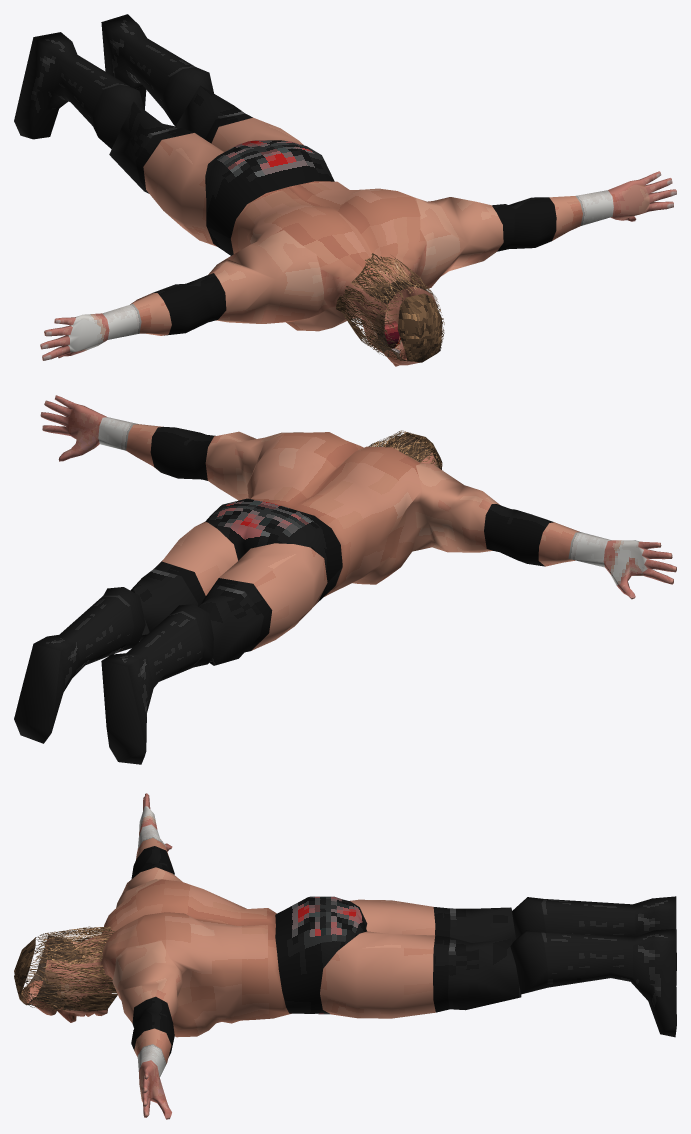
3 views of the same model, one above another, from view 1: azimuth 30°, elevation 25°; view 2: azimuth 150°, elevation 25°; view 3: azimuth 270°, elevation 25° (orthographic). The views are drawn at different scales.
Parts seen in each view (by area): view 1: native_mesh_22, native_mesh_48, native_mesh_26, native_mesh_24, native_mesh_49, native_mesh_45, native_mesh_00, native_mesh_32, native_mesh_46, native_mesh_31, native_mesh_21, native_mesh_44 (+7 smaller); view 2: native_mesh_45, native_mesh_48, native_mesh_49, native_mesh_32, native_mesh_26, native_mesh_24, native_mesh_44, native_mesh_22, native_mesh_31, native_mesh_42, native_mesh_00, native_mesh_50 (+4 smaller); view 3: native_mesh_45, native_mesh_44, native_mesh_32, native_mesh_48, native_mesh_46, native_mesh_22, native_mesh_31, native_mesh_49, native_mesh_00, native_mesh_24, native_mesh_01, native_mesh_21 (+2 smaller).
Boxes of the visible parts, left/top/right/bottom form: native_mesh_22: left=250, top=191, right=467, bottom=331; native_mesh_48: left=92, top=84, right=279, bottom=246; native_mesh_26: left=130, top=245, right=275, bottom=335; native_mesh_24: left=434, top=196, right=582, bottom=276; native_mesh_49: left=14, top=32, right=129, bottom=139; native_mesh_45: left=231, top=181, right=396, bottom=318; native_mesh_00: left=351, top=261, right=444, bottom=362; native_mesh_32: left=101, top=14, right=195, bottom=109; native_mesh_46: left=222, top=140, right=334, bottom=204; native_mesh_31: left=162, top=67, right=233, bottom=133; native_mesh_21: left=336, top=221, right=418, bottom=331; native_mesh_44: left=197, top=105, right=303, bottom=151; native_mesh_45: left=247, top=432, right=422, bottom=596; native_mesh_48: left=170, top=503, right=327, bottom=667; native_mesh_49: left=101, top=611, right=203, bottom=764; native_mesh_32: left=14, top=595, right=133, bottom=743; native_mesh_26: left=428, top=480, right=579, bottom=566; native_mesh_24: left=126, top=424, right=263, bottom=500; native_mesh_44: left=134, top=521, right=236, bottom=634; native_mesh_22: left=250, top=432, right=463, bottom=576; native_mesh_31: left=59, top=454, right=197, bottom=651; native_mesh_42: left=572, top=533, right=646, bottom=583; native_mesh_00: left=369, top=430, right=442, bottom=469; native_mesh_50: left=300, top=511, right=346, bottom=601; native_mesh_45: left=131, top=882, right=291, bottom=1037; native_mesh_44: left=320, top=931, right=472, bottom=1018; native_mesh_32: left=541, top=929, right=676, bottom=1037; native_mesh_48: left=307, top=896, right=546, bottom=942; native_mesh_46: left=275, top=897, right=359, bottom=1014; native_mesh_22: left=104, top=879, right=194, bottom=1036; native_mesh_31: left=164, top=930, right=547, bottom=1117; native_mesh_49: left=541, top=896, right=676, bottom=985; native_mesh_00: left=14, top=926, right=107, bottom=1016; native_mesh_24: left=119, top=962, right=182, bottom=1063; native_mesh_01: left=27, top=938, right=105, bottom=1013; native_mesh_21: left=80, top=925, right=122, bottom=1012.
Bounding box in the file's own units: 20.29 × 3.77 × 19.21.
27 materials, 27 textured.
